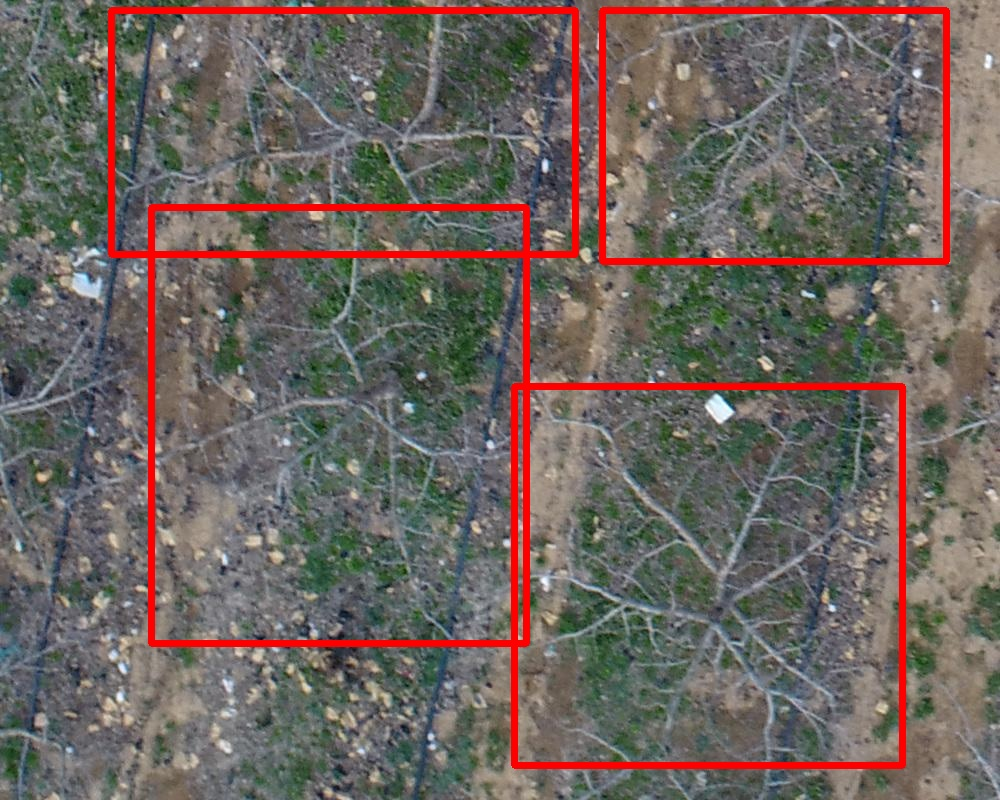apple: (151, 207, 526, 643), (514, 386, 902, 765), (111, 10, 575, 254), (602, 10, 946, 261)
